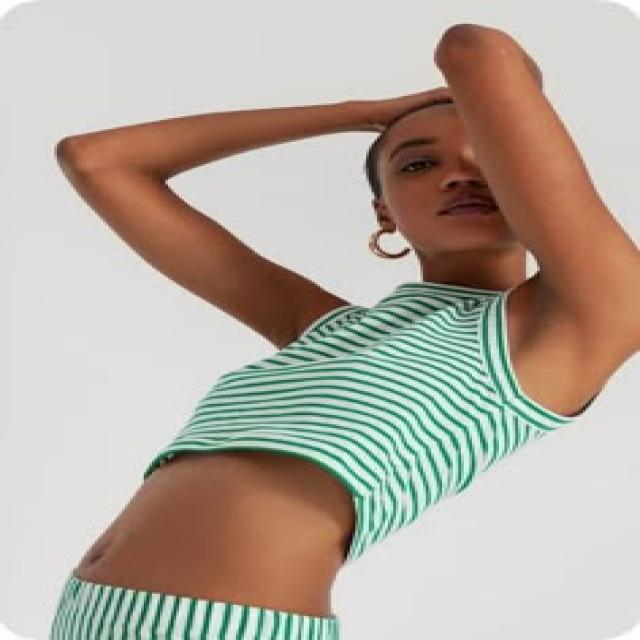7_mano_rostro: (432, 24, 615, 253)
